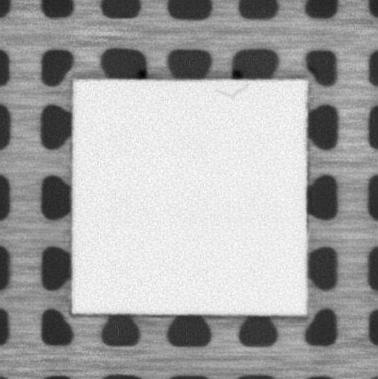DIE_CRACK: (214, 82, 252, 101)
